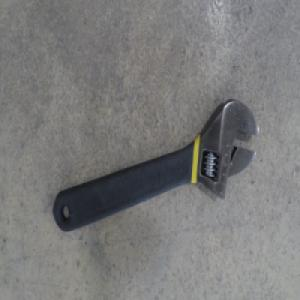AdjustableWrench: (52, 99, 258, 233)
